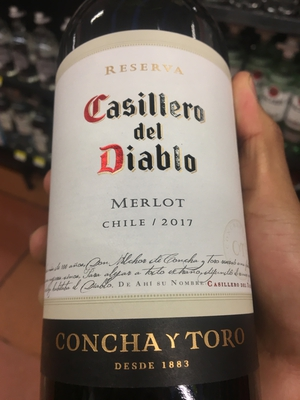casillero del diablo merlot: (41, 10, 260, 400)
